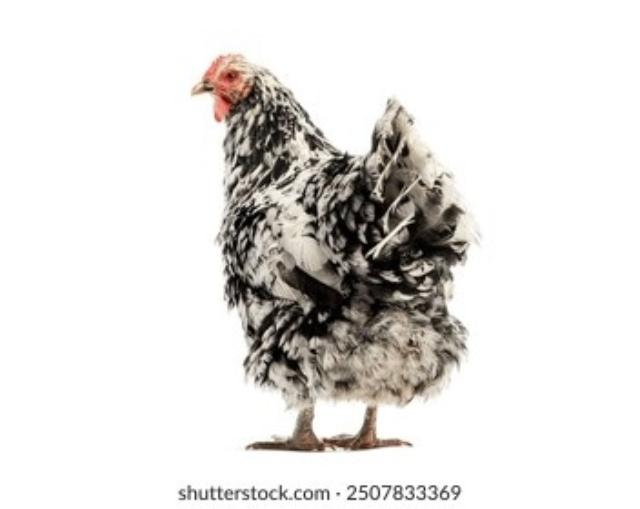Chicken: (189, 50, 481, 452)
